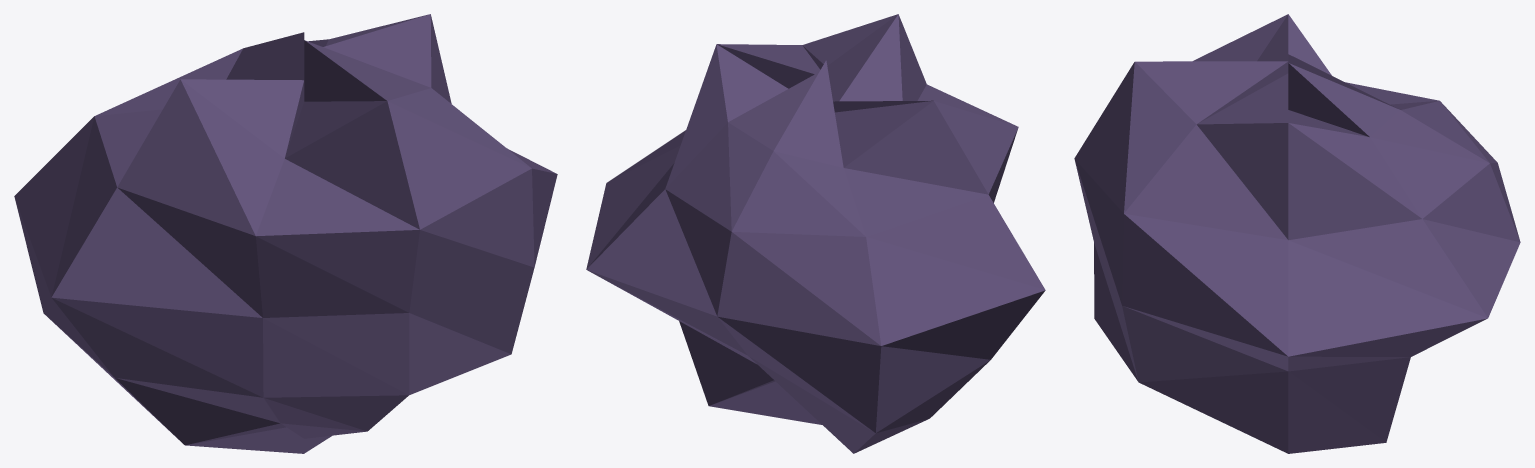
File: rts.asteroid.glb
3 views of the same model, side by side, from view 1: azimuth 30°, elevation 25°; view 2: azimuth 150°, elevation 25°; view 3: azimuth 270°, elevation 25° (orthographic). The views are drawn at different scales.
Visible parts, largest first — view 1: rts.asteroid; view 2: rts.asteroid; view 3: rts.asteroid.
Boxes of the visible parts, bbox=[...] form: rts.asteroid: bbox=[14, 14, 557, 453]; rts.asteroid: bbox=[586, 14, 1045, 453]; rts.asteroid: bbox=[1074, 14, 1520, 453].
Size of the model in its own units: 2.09 by 1.66 by 1.72.
